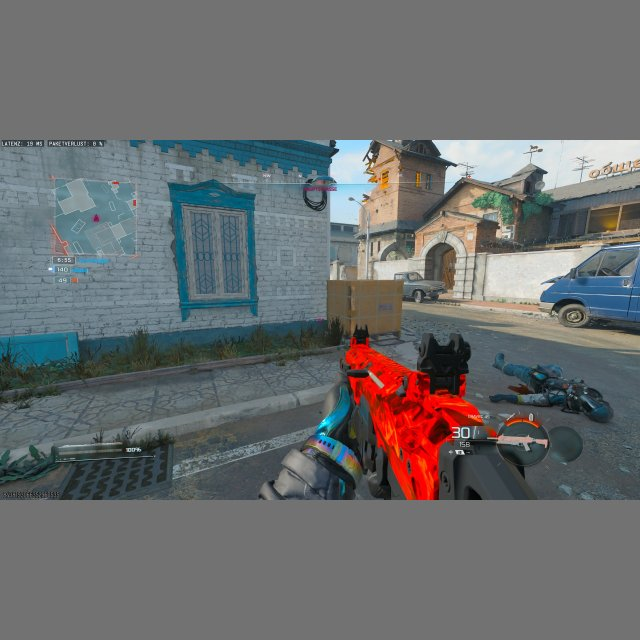head: (582, 389, 614, 424)
